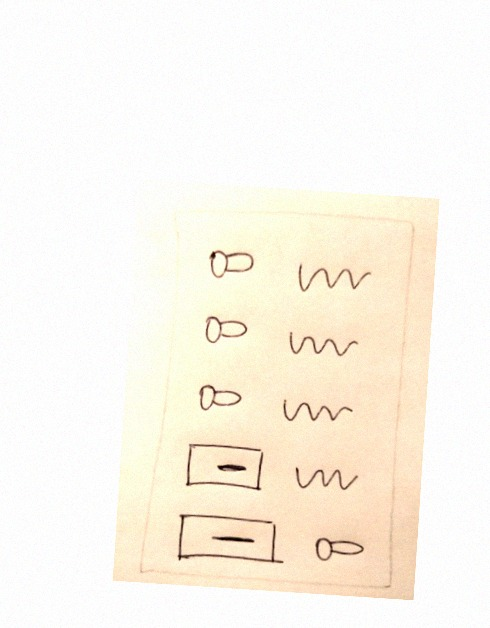button: (173, 509, 290, 571), (178, 439, 273, 499)
switch: (309, 526, 369, 571), (204, 244, 261, 288), (198, 311, 252, 354), (193, 378, 247, 418)
text: (285, 455, 365, 503), (282, 324, 364, 365), (275, 393, 360, 432), (291, 258, 374, 297)
